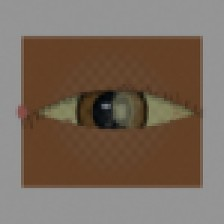corneal_ulcer: (96, 88, 151, 131)
